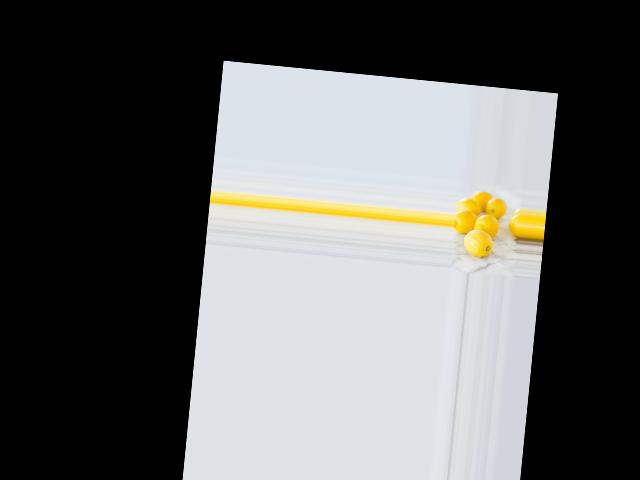lemon: (459, 226, 498, 258)
